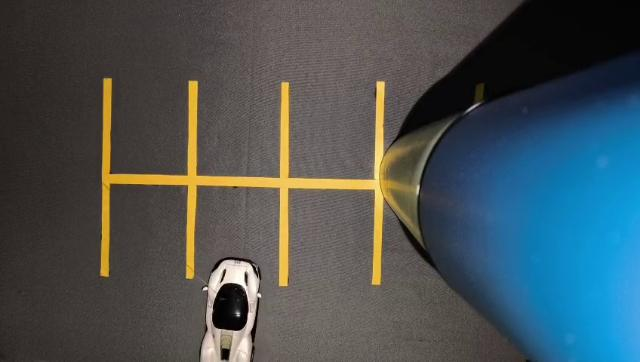toy_car: (186, 243, 290, 362)
